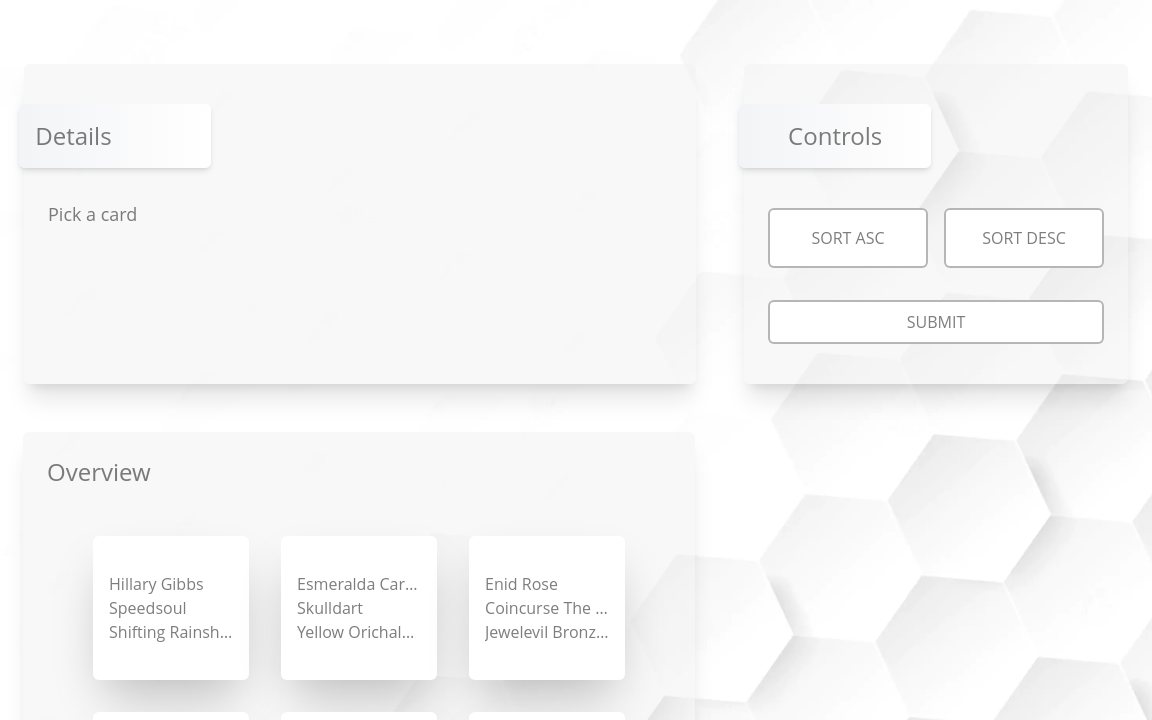
Check Location › Check Sort Asc
The image size is (1152, 720).
Click the button with id "Asc" at (848, 238), box [768,208,928,268]
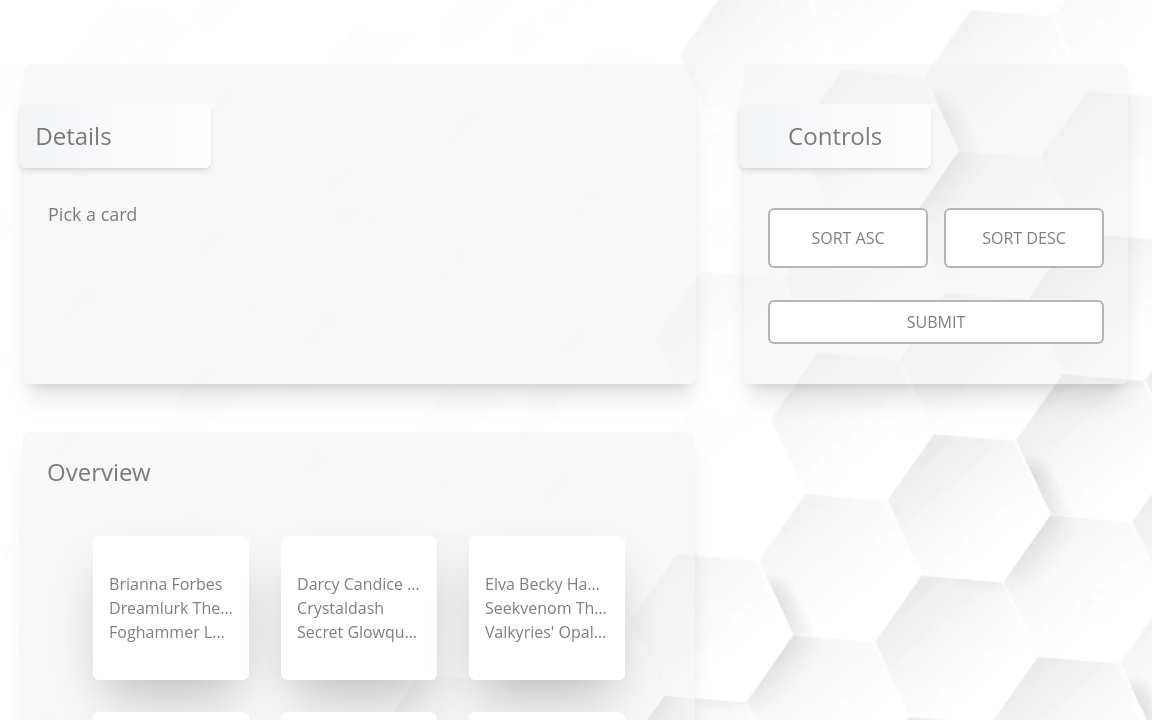
Expected: the element showing "Brianna Forbes Dreamlurk The Unstoppable Foghammer Lead" is shown, [93,536,249,680]
